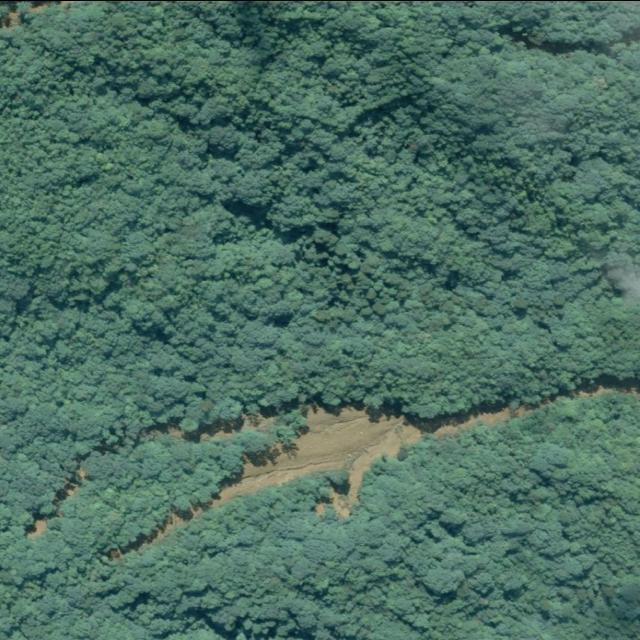landslide: (109, 406, 533, 558)
